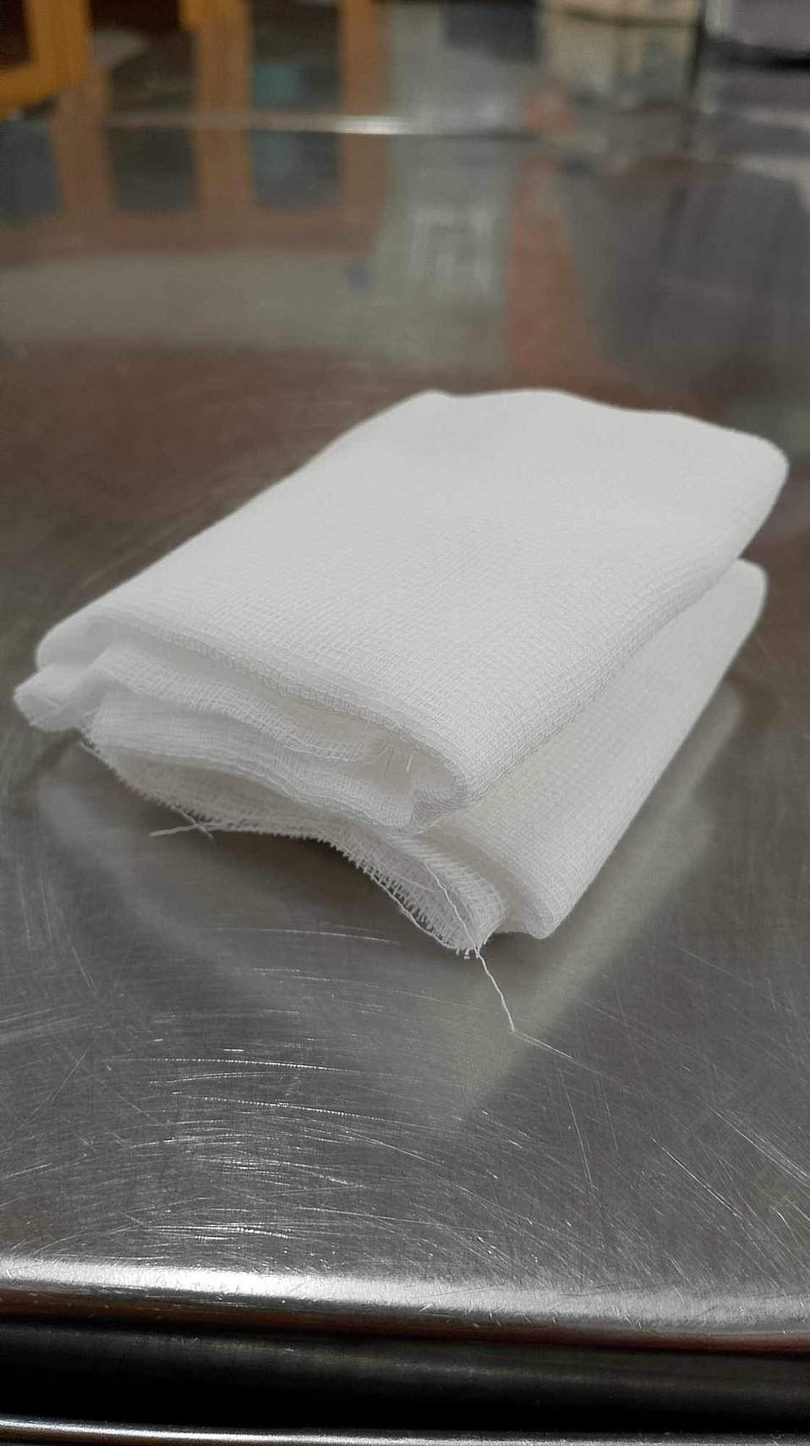Infectious: (12, 382, 790, 963)
